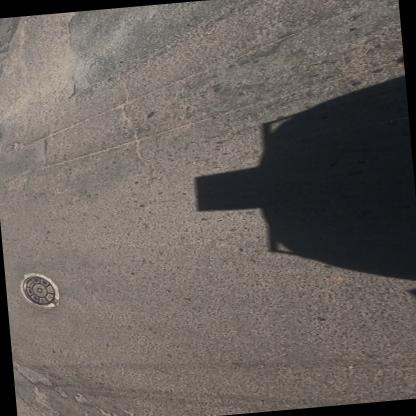manholes: (12, 264, 72, 314)
